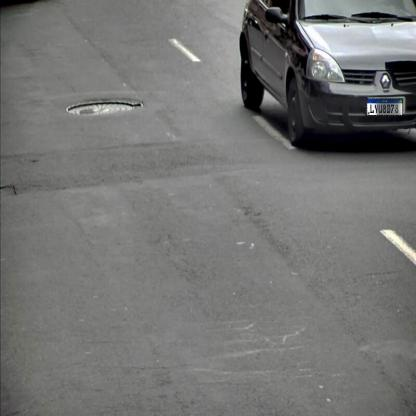PlacaM: (367, 98, 403, 116)
